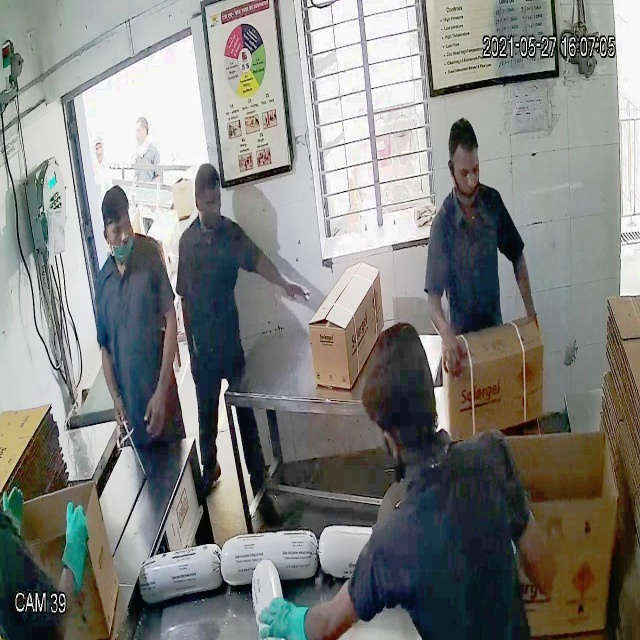Sin_gafas: (97, 211, 136, 248), (446, 156, 483, 189)
